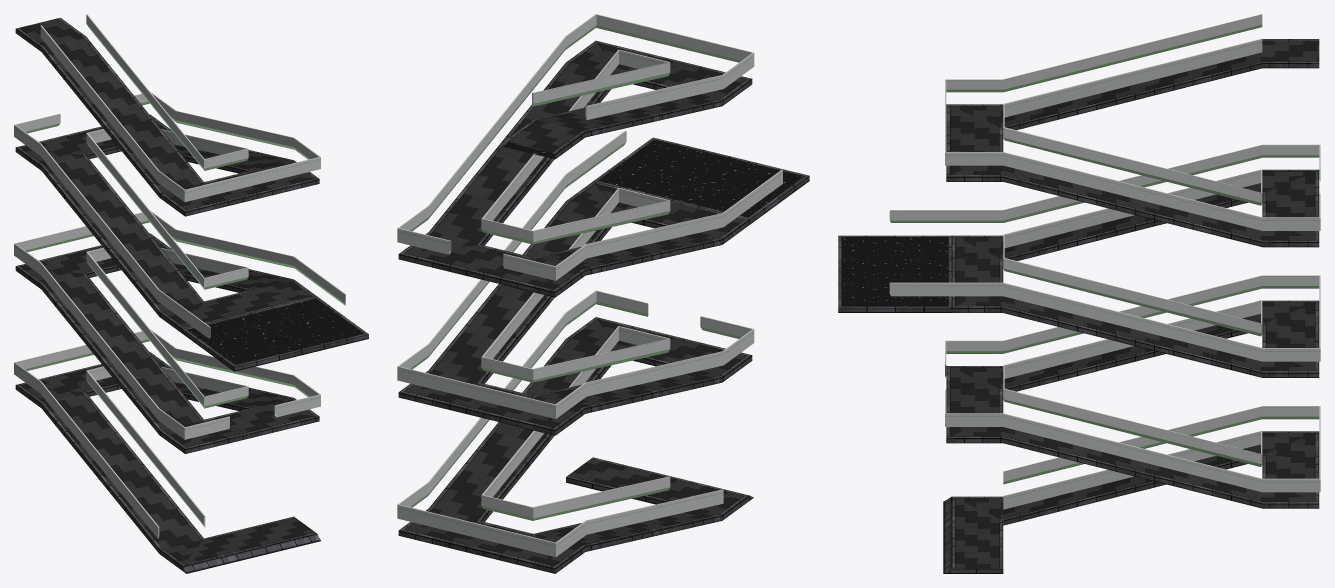
File: Exhibit_Str_Stairs_2_Art.fbx
3 views of the same model, side by side, from view 1: azimuth 30°, elevation 25°; view 2: azimuth 150°, elevation 25°; view 3: azimuth 270°, elevation 25° (orthographic). The views are drawn at different scales.
Parts seen in each view (by area): view 1: Exhibit_Str_Stairs_2, Exhibit_Str_Stairs_2_Railing; view 2: Exhibit_Str_Stairs_2, Exhibit_Str_Stairs_2_Railing; view 3: Exhibit_Str_Stairs_2, Exhibit_Str_Stairs_2_Railing.
Part boxes in pixels (left/top/right/bottom): Exhibit_Str_Stairs_2: left=15, top=17, right=368, bottom=573; Exhibit_Str_Stairs_2_Railing: left=14, top=14, right=345, bottom=538; Exhibit_Str_Stairs_2: left=398, top=40, right=809, bottom=573; Exhibit_Str_Stairs_2_Railing: left=397, top=14, right=782, bottom=557; Exhibit_Str_Stairs_2: left=838, top=39, right=1319, bottom=573; Exhibit_Str_Stairs_2_Railing: left=889, top=14, right=1320, bottom=509.
Size of what is drawn, in the model's own units: 610 by 1894 by 1699.
Materials: 2 (2 with a texture image).
